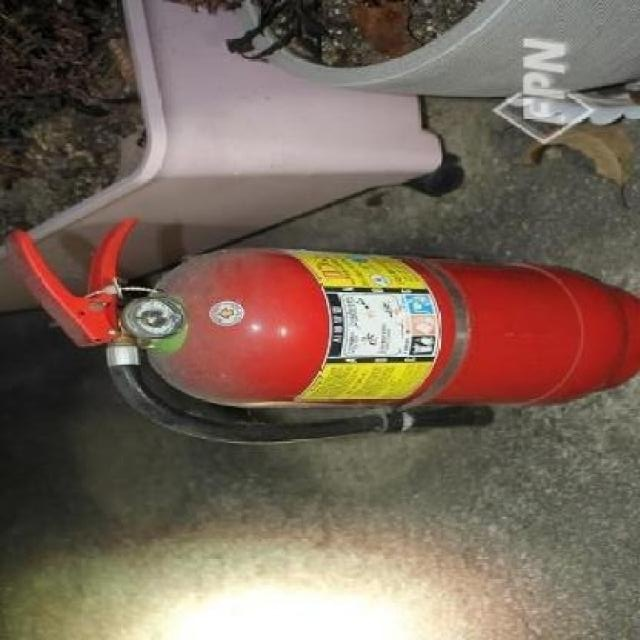fire extinguisher: (3, 218, 640, 444)
